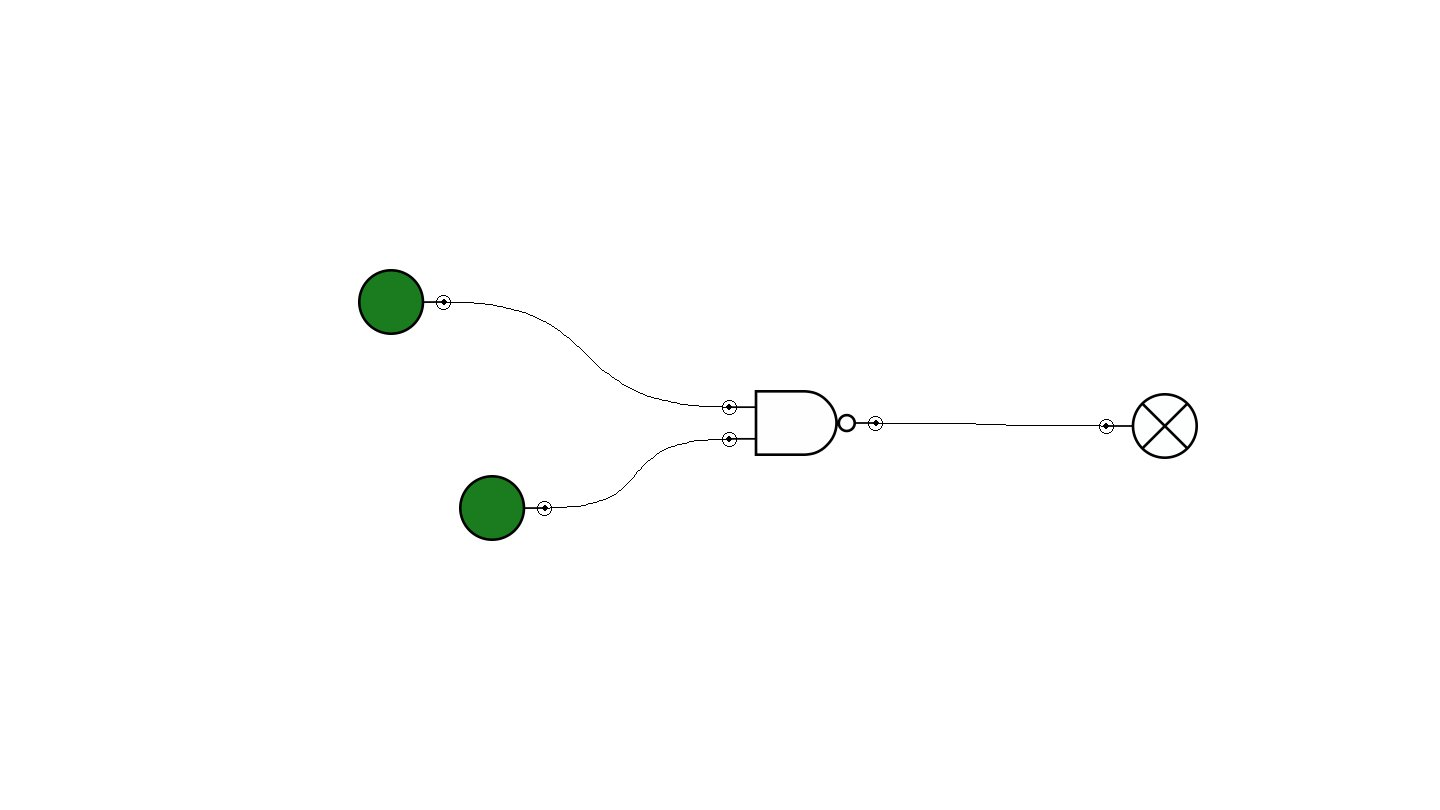bulb: (1099, 393, 1198, 459)
nand: (722, 390, 883, 456)
switch_True: (459, 475, 552, 541), (358, 269, 451, 335)
